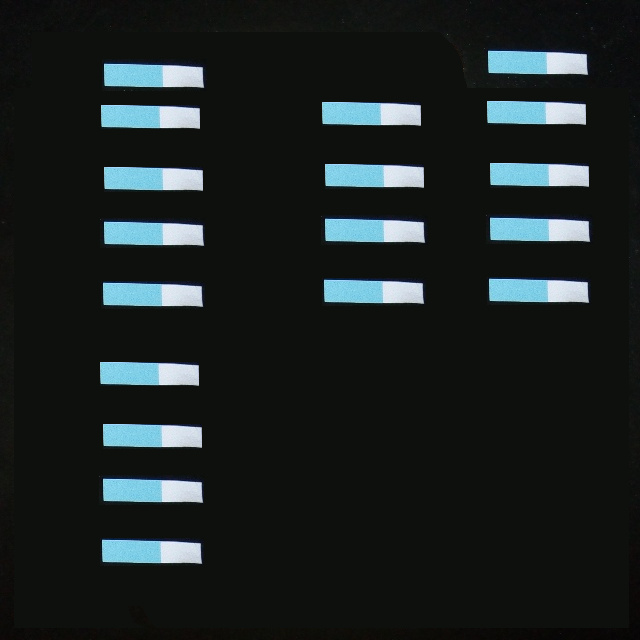escala: (102, 62, 203, 87), (486, 100, 586, 124), (488, 278, 588, 302), (102, 539, 201, 563), (100, 104, 200, 127), (321, 101, 421, 124), (323, 279, 423, 302), (99, 362, 199, 385), (102, 423, 202, 446), (102, 478, 202, 501), (104, 166, 203, 189), (103, 221, 202, 244), (324, 163, 423, 186), (489, 162, 588, 185), (488, 51, 586, 74), (102, 283, 202, 305), (489, 217, 588, 239), (325, 219, 423, 241)
